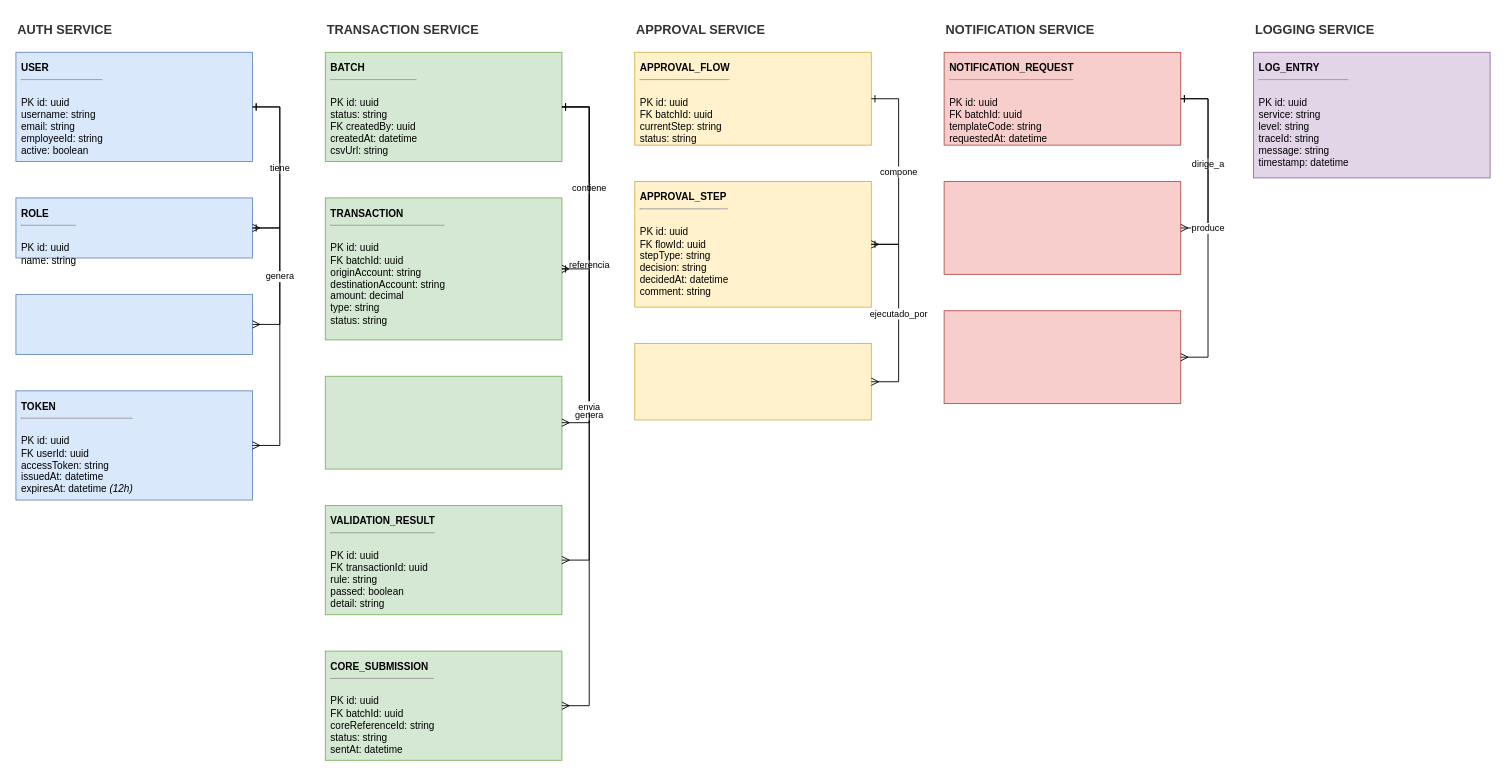
Image size: 1506x776. Some labels were removed from this diagram. Each missing label, with the centre of its shape:
"APPROVER PK id: uuid FK userId: uuid role: string" belongs at (752,381).
"CSVFILE PK id: uuid bucketPath: string rowCount: int uploadedAt: datetime" belongs at (443,422).
"NOTIFICATION_LOG PK id: uuid FK requestId: uuid status: string sentAt: datetime" belongs at (1062,357).
"PERMISSION PK id: uuid code: string" belongs at (134,323).
"RECIPIENT PK id: uuid FK requestId: uuid email: string transactionId: string" belongs at (1062,227).
